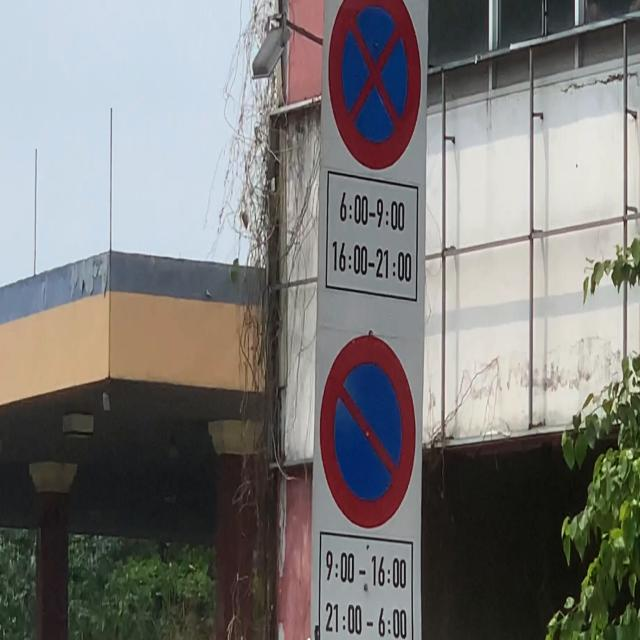Cam do: (321, 326, 414, 531)
Cam dung va do: (324, 0, 424, 178)
